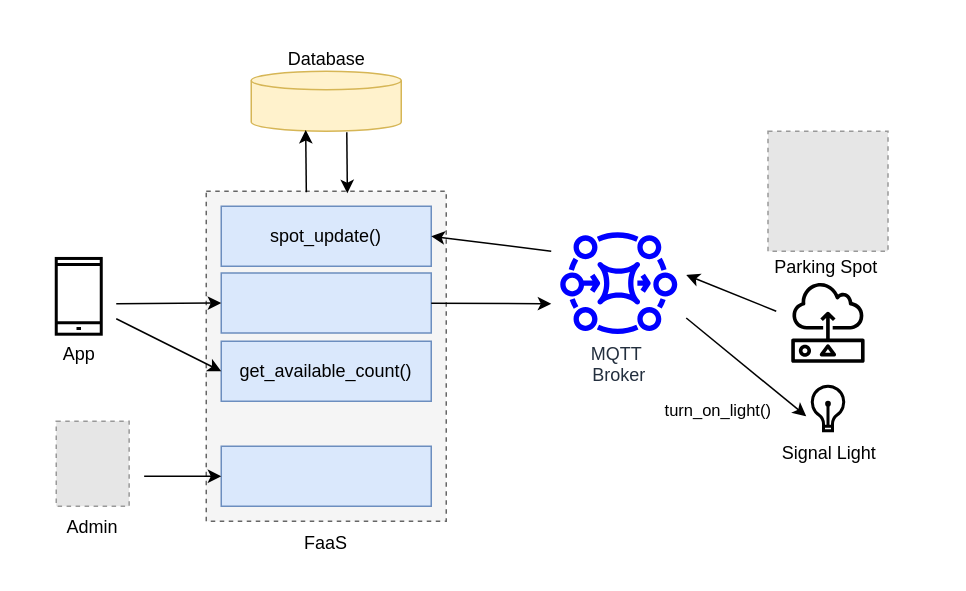
Some shapes in this 966 by 591 pixel diagram are drawn without their labels. Grey dashed boxes stand in for pictures. The box of each missing label's shape, as (x1, y1, x2, y2) in pixels:
add_spot() remove_spot(): (220, 445, 431, 506)
reserve_update(): (220, 272, 431, 333)
spot_status: (250, 70, 401, 131)
